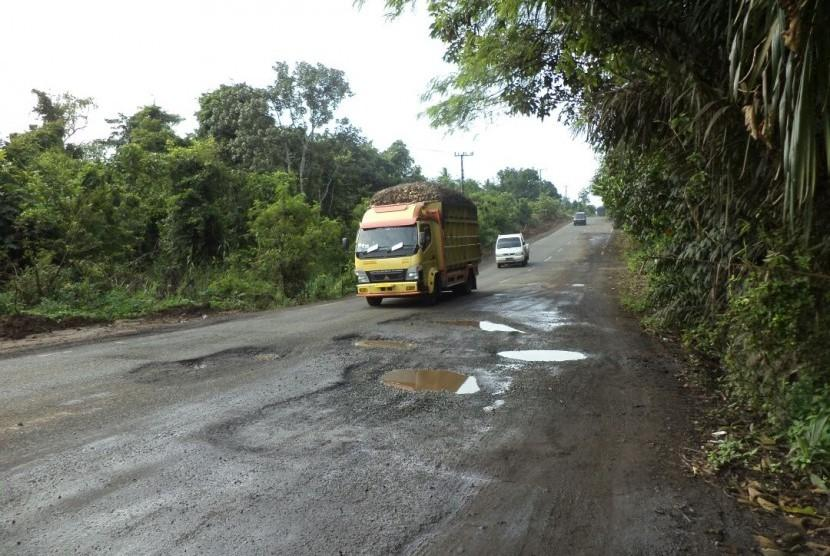Pothole: (99, 336, 305, 394), (477, 336, 617, 388), (362, 357, 497, 408), (409, 291, 549, 337), (332, 331, 467, 355)
